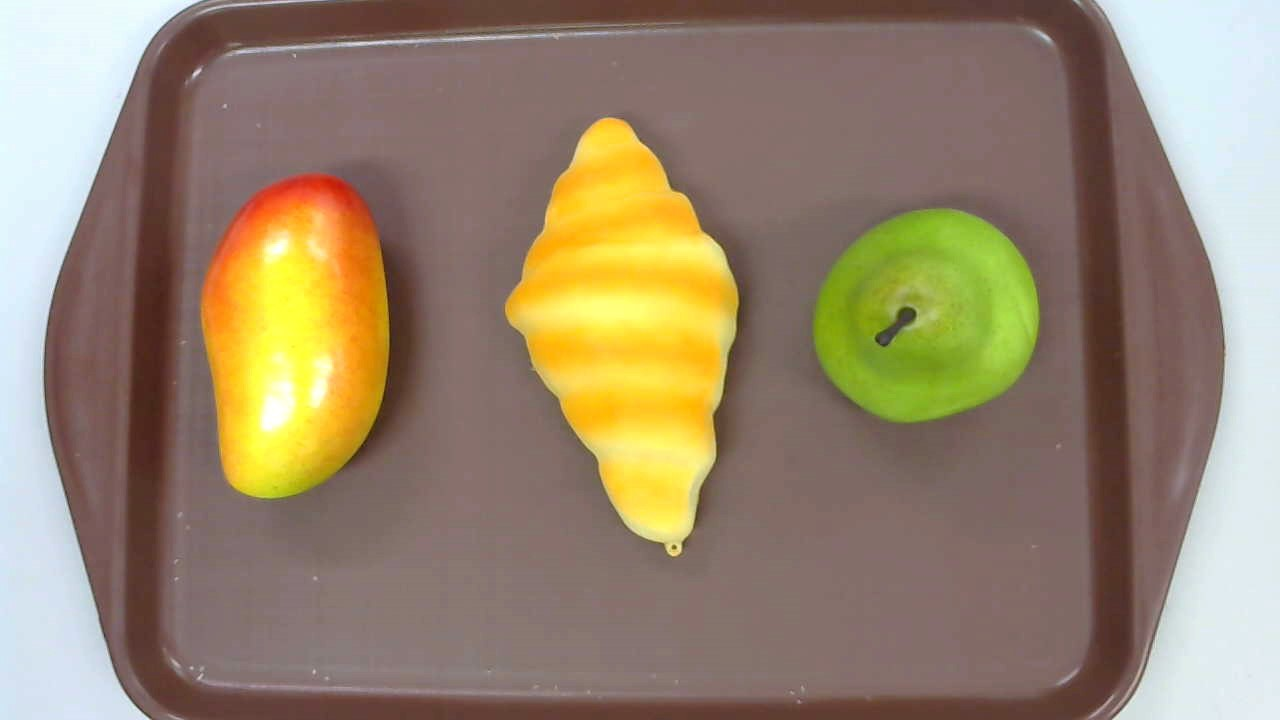croissant: (503, 117, 739, 557)
green pear: (812, 208, 1039, 424)
red mango: (201, 172, 389, 498)
